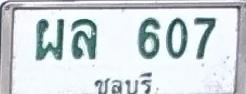0: (166, 16, 188, 58)
6: (137, 16, 160, 58)
7: (193, 15, 216, 60)
A28: (34, 18, 64, 60)
A36: (71, 18, 98, 60)
CBI: (91, 69, 156, 94)
